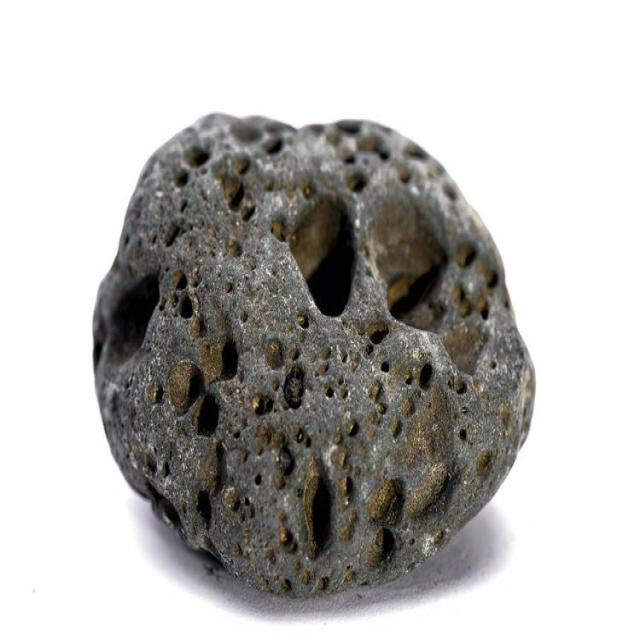Pecahan Agregat: (70, 86, 568, 614)
